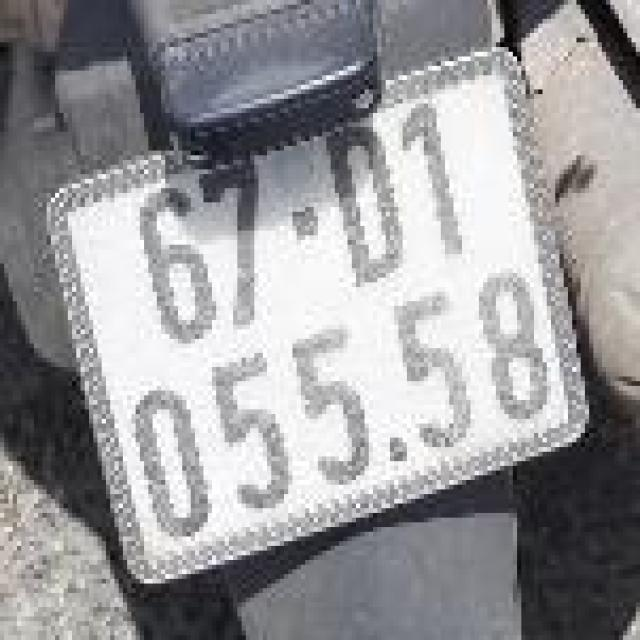0: (118, 373, 226, 548)
1: (388, 86, 472, 279)
5: (199, 339, 307, 523), (383, 284, 489, 460), (281, 318, 383, 496)
6: (125, 174, 229, 357)
7: (194, 149, 294, 331)
8: (469, 256, 559, 429)
D: (314, 112, 424, 304)
